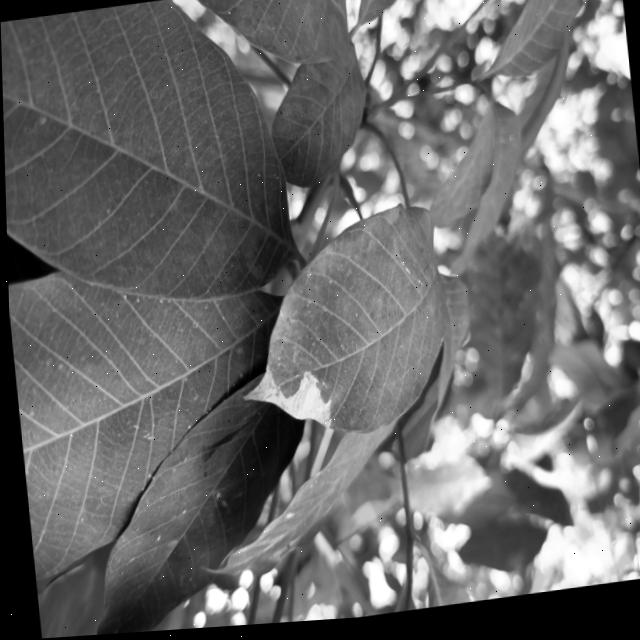Leaf-Blight: (236, 360, 330, 443)
